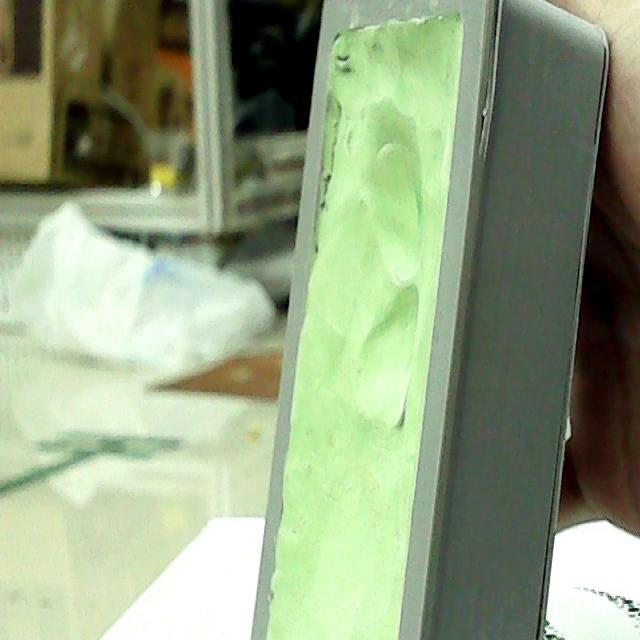block: (240, 0, 611, 640)
